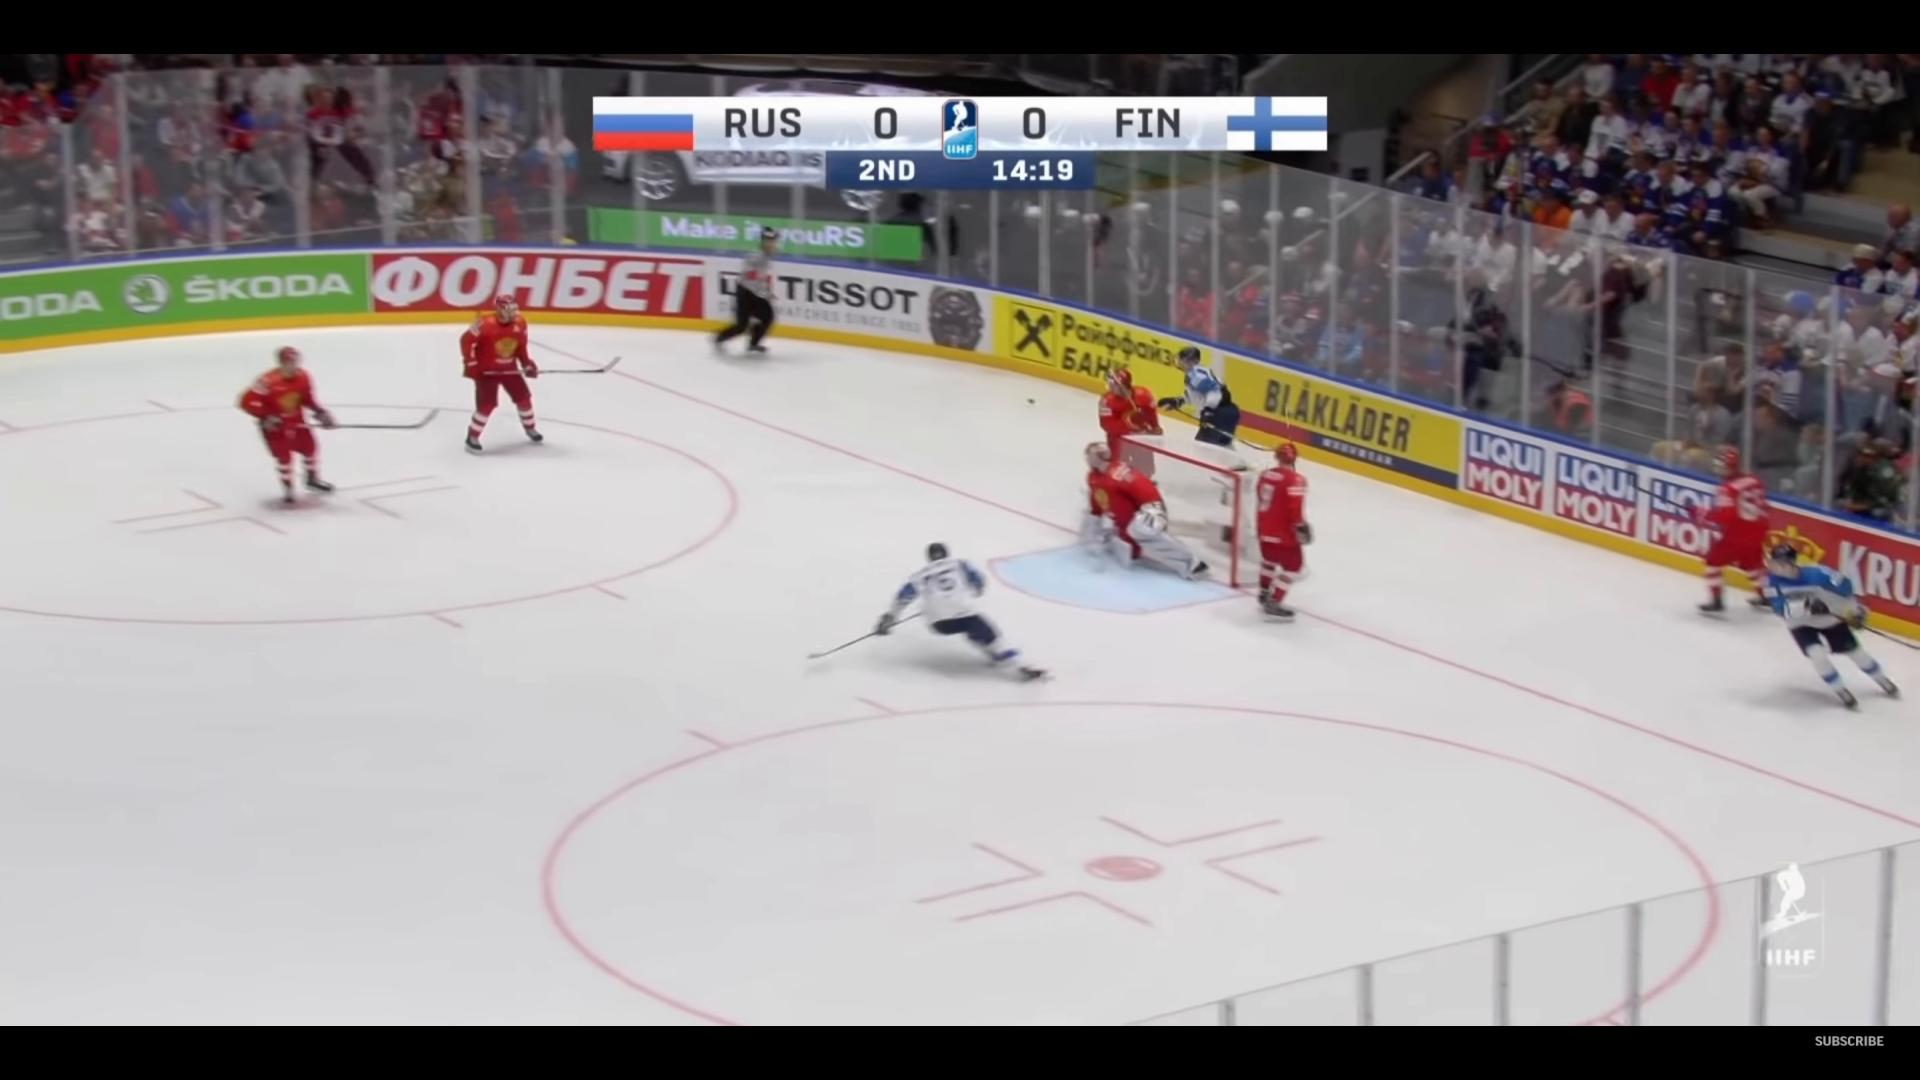puck: (1026, 397, 1036, 404)
